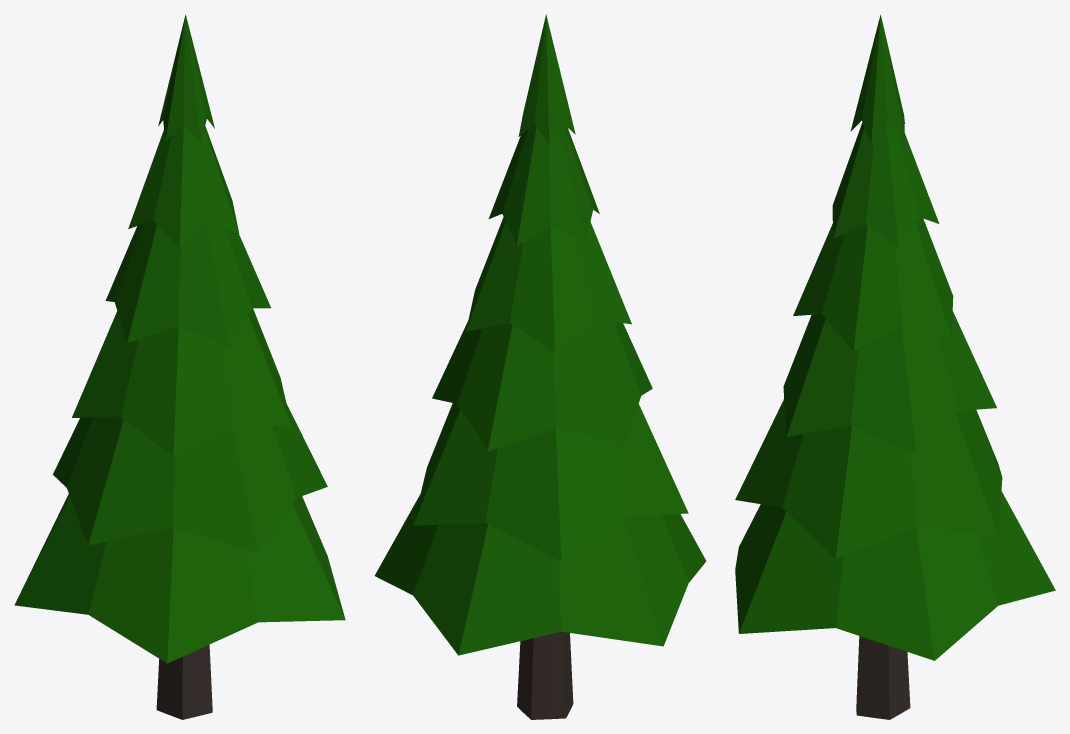
The model's file is Pine_Tree_1_Spring.fbx.
3 renders of one model, left to right at view 1: azimuth 30°, elevation 25°; view 2: azimuth 150°, elevation 25°; view 3: azimuth 270°, elevation 25°, orthographic.
Visible parts, largest first — view 1: Pine_Tree_1_Spring; view 2: Pine_Tree_1_Spring; view 3: Pine_Tree_1_Spring.
Boxes of the visible parts, x1,y1,x2,y2 form: Pine_Tree_1_Spring: (14, 14, 345, 719); Pine_Tree_1_Spring: (374, 14, 706, 719); Pine_Tree_1_Spring: (735, 14, 1055, 719).
Size of the model in its own units: 267 by 614 by 257.
